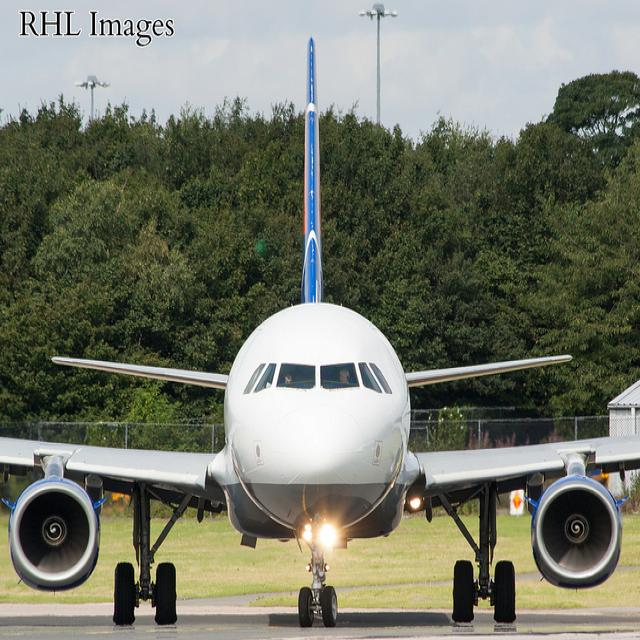airplane: (2, 34, 640, 628)
